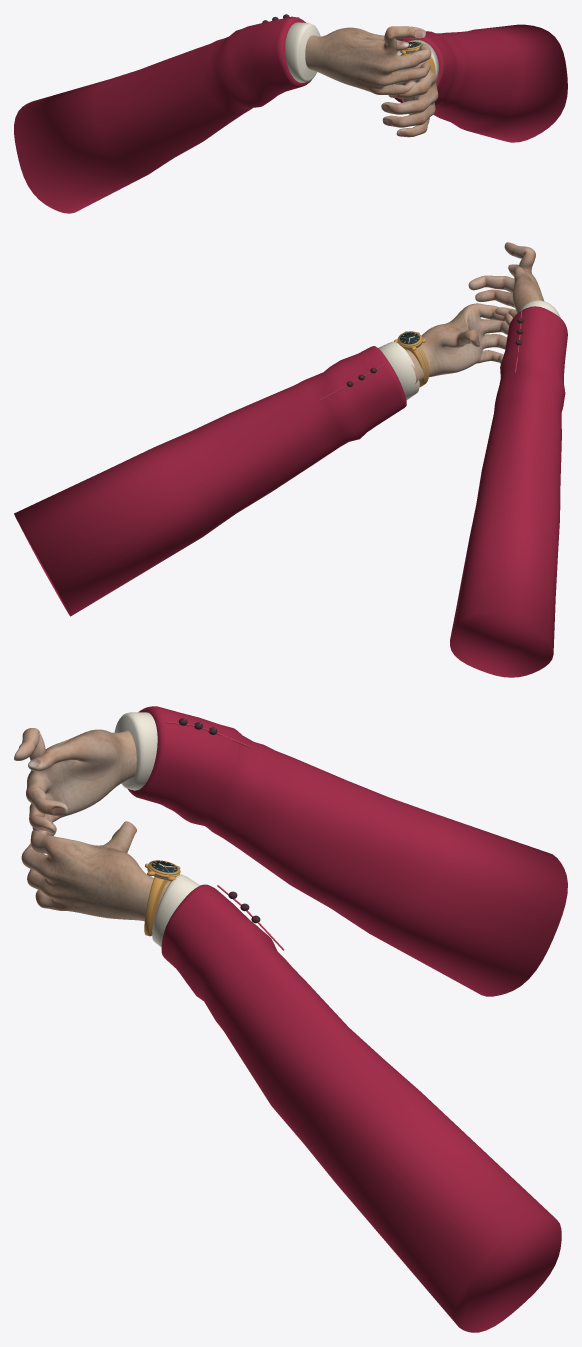
File: fps_left_mag.glb
3 views of the same model, one above another, from view 1: azimuth 30°, elevation 25°; view 2: azimuth 150°, elevation 25°; view 3: azimuth 270°, elevation 25° (orthographic). The views are drawn at different scales.
Parts seen in each view (by area): view 1: Right, Left; view 2: Left, Right; view 3: Left, Right.
Part boxes in pixels (<box>): Right: <box>14,14,431,213</box>; Left: <box>381,24,567,142</box>; Left: <box>14,303,512,616</box>; Right: <box>450,242,567,677</box>; Left: <box>21,821,561,1332</box>; Right: <box>14,706,567,996</box>.
Size of the model in its own units: 0.7713 by 0.4257 by 0.5162.
9 materials, 1 textured.
